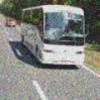buses: (21, 4, 90, 68)
